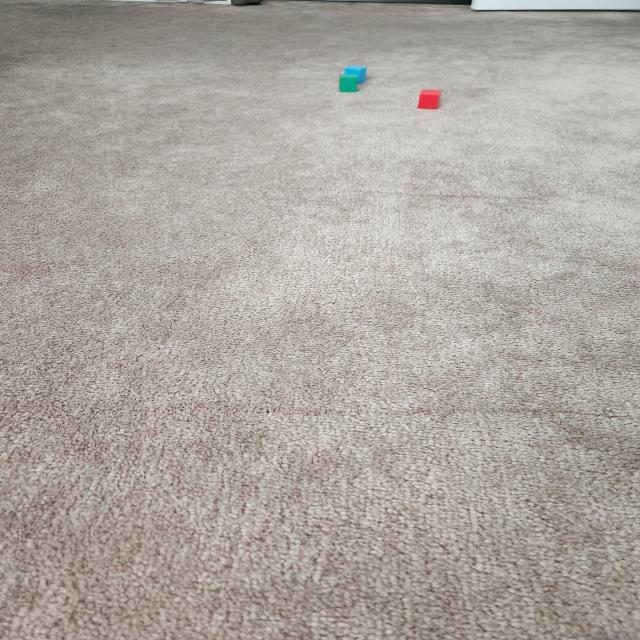bluecube: (344, 65, 366, 83)
green cube: (340, 74, 357, 92)
red cube: (418, 89, 441, 110)
